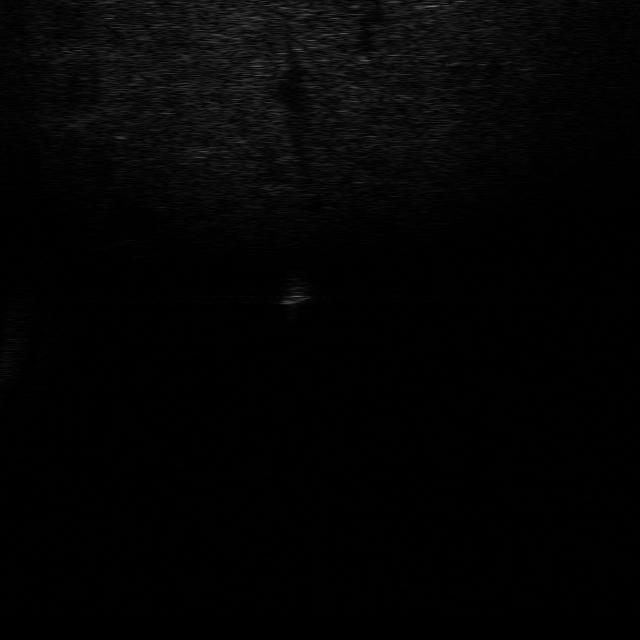human body: (275, 267, 315, 323)
